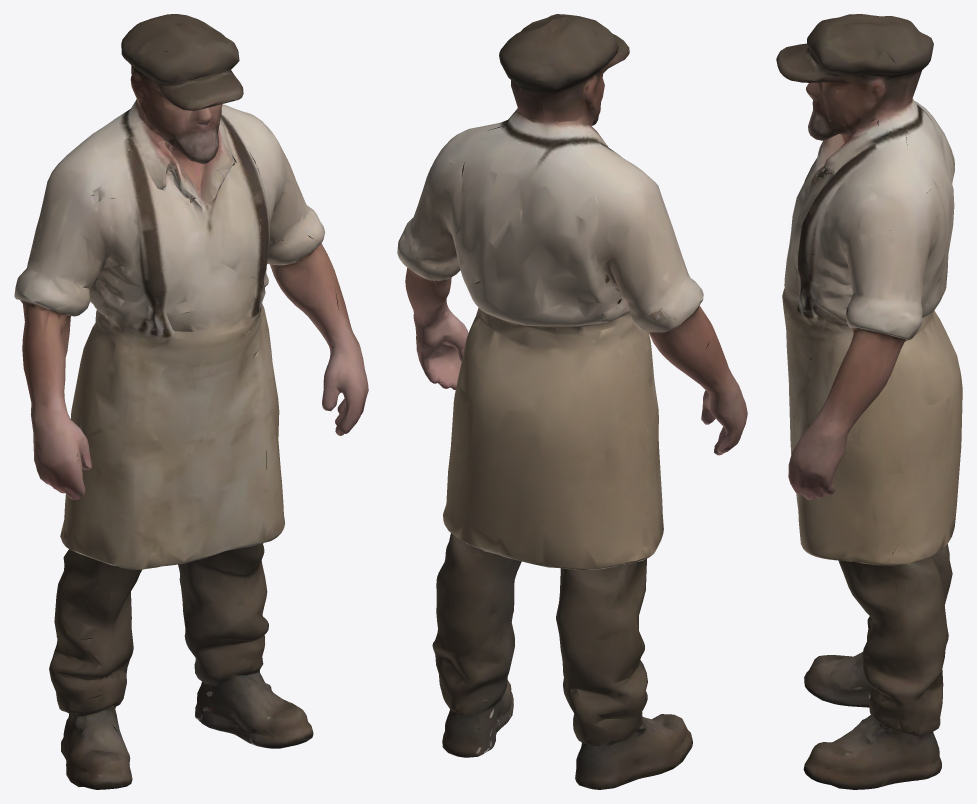
File: miller.glb
3 renders of one model, left to right at view 1: azimuth 30°, elevation 25°; view 2: azimuth 150°, elevation 25°; view 3: azimuth 270°, elevation 25°, orthographic.
Visible parts, largest first — view 1: miller; view 2: miller; view 3: miller.
Part boxes in pixels (bbox=[...]): miller: bbox=[14, 14, 368, 789]; miller: bbox=[397, 14, 747, 789]; miller: bbox=[776, 14, 962, 789].
Size of the model in its own units: 0.8481 by 1.8 by 0.4234.
1 material, 1 textured.
